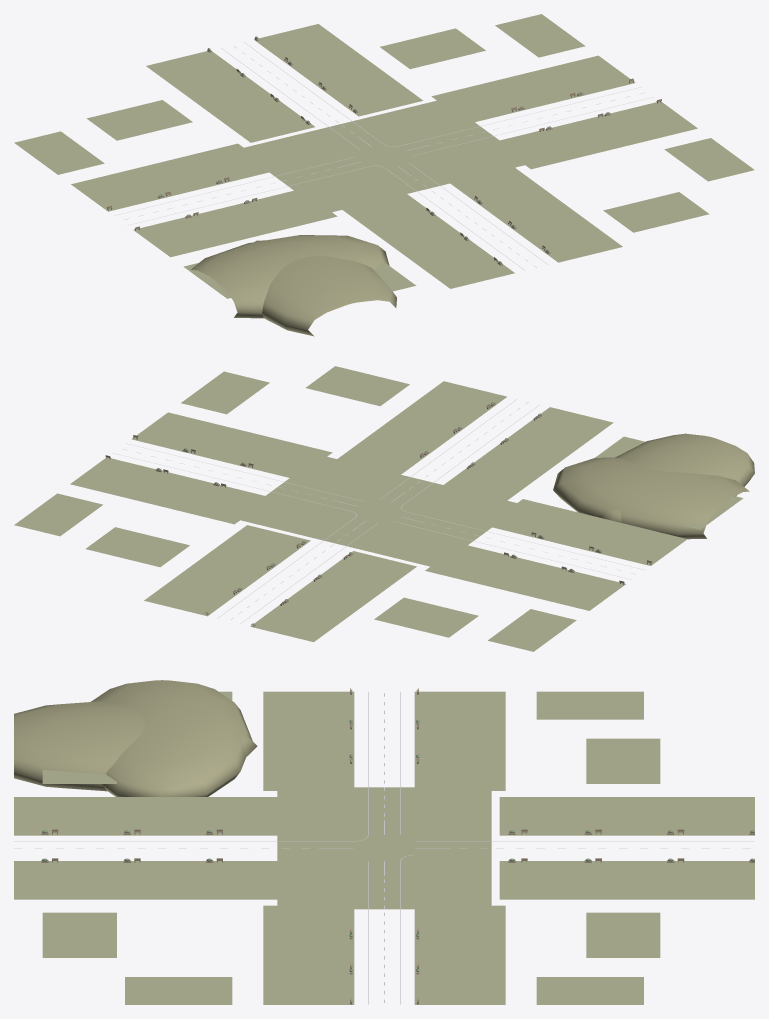
3 renders of one model, top to bottom at view 1: azimuth 30°, elevation 25°; view 2: azimuth 150°, elevation 25°; view 3: azimuth 270°, elevation 25°, orthographic. The views are drawn at different scales.
Visible parts, largest first — view 1: static; view 2: static; view 3: static.
Boxes of the visible parts, bbox=[...] form: static: bbox=[14, 14, 754, 336]; static: bbox=[14, 366, 754, 651]; static: bbox=[14, 680, 754, 1004].
Size of what is drawn, in the model's own units: 180 by 14.08 by 180.
